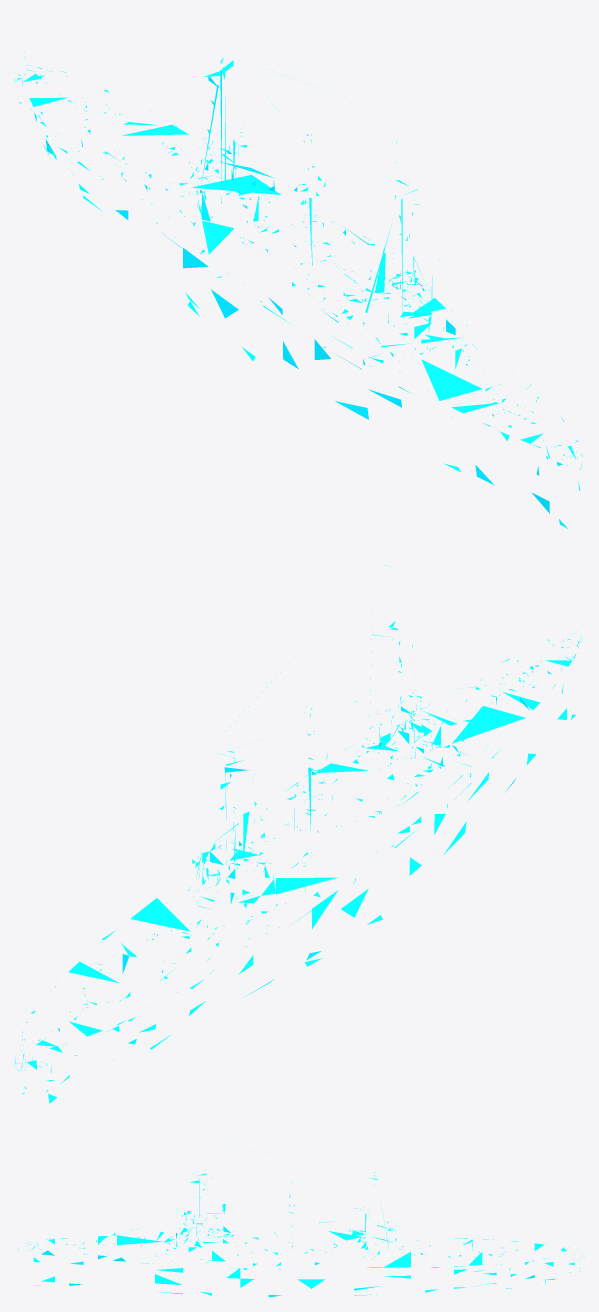
The model's file is Agincourt.glb.
3 renders of one model, top to bottom at view 1: azimuth 30°, elevation 25°; view 2: azimuth 150°, elevation 25°; view 3: azimuth 270°, elevation 25°, orthographic. The views are drawn at different scales.
Bounding box in the file's own units: 1.93 × 3.76 × 13.68.
